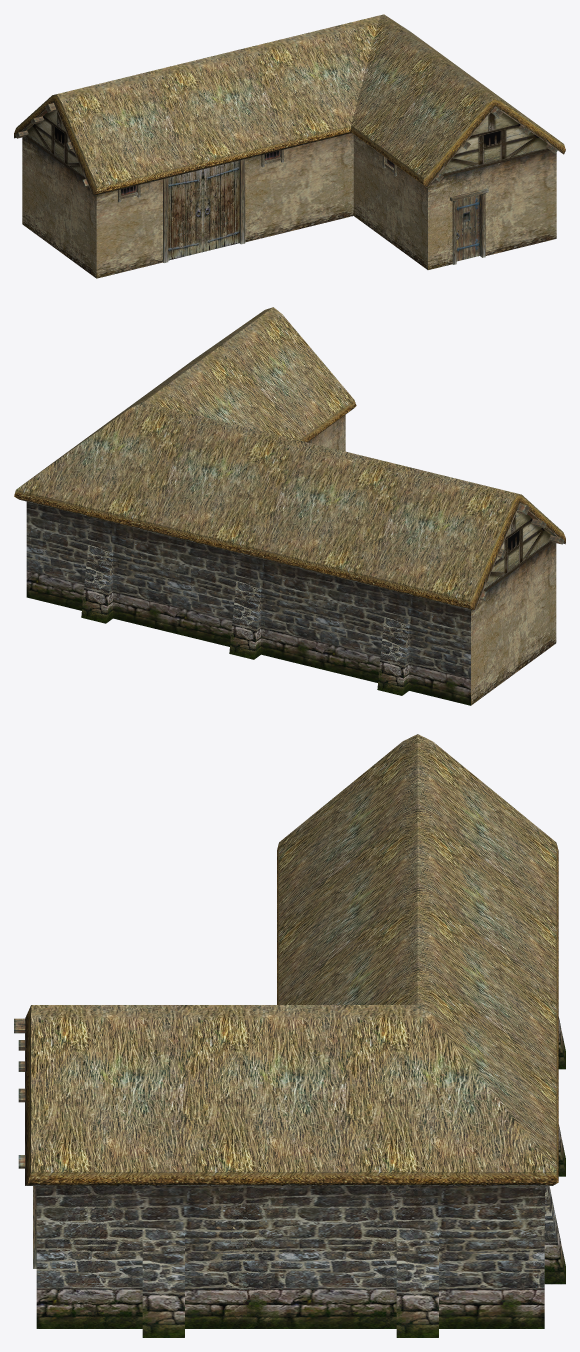
File: mhouse20f.glb
3 renders of one model, top to bottom at view 1: azimuth 30°, elevation 25°; view 2: azimuth 150°, elevation 25°; view 3: azimuth 270°, elevation 25°, orthographic. The views are drawn at different scales.
Parts seen in each view (by area): view 1: mhouse20f; view 2: mhouse20f; view 3: mhouse20f.
Part boxes in pixels (x1,y1,x2,y2): mhouse20f: (14,14,565,278); mhouse20f: (14,307,565,705); mhouse20f: (14,734,565,1337).
Bounding box in the file's own units: 19.03 × 7.05 × 13.03.
10 materials, 10 textured.
